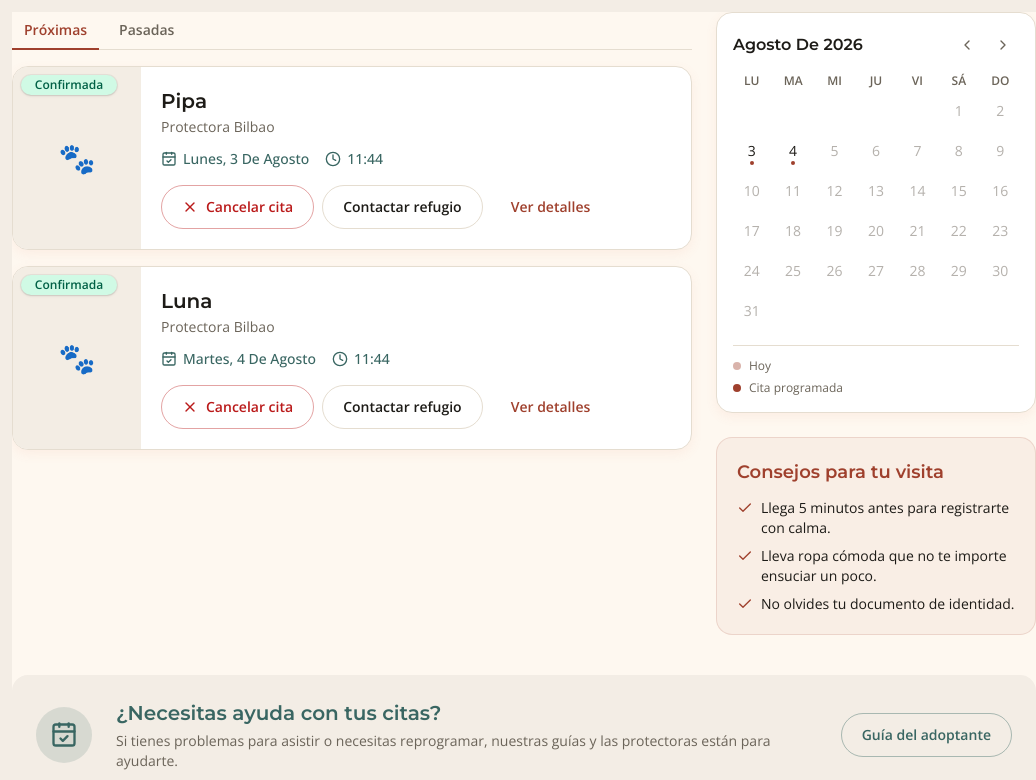
Test case: MisCitasCliente › seleccionar un día del calendario filtra la lista y permite quitar el filtro
The image size is (1036, 780).
expect the link "Pipa" is shown: met, box [161,89,207,113]
expect the link "Luna" is shown: met, box [161,289,212,313]
Click the button "3": (752, 151) [734,133,770,169]
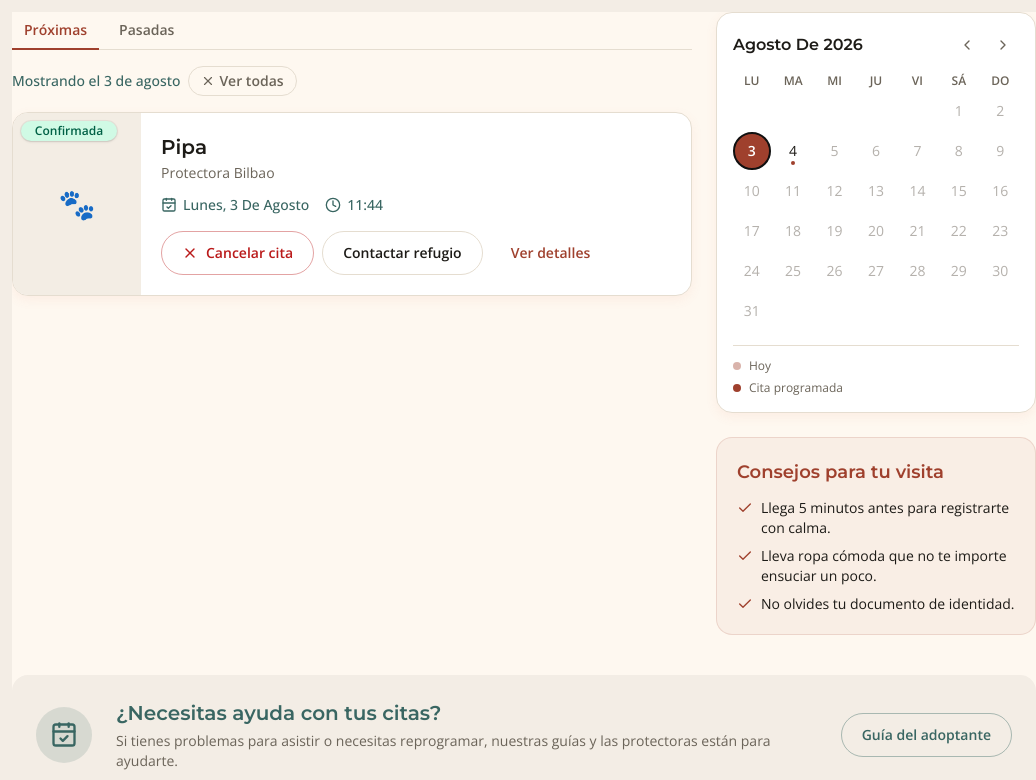
expect the link "Pipa" is shown: met, box [161,135,207,159]
expect the link "Luna" is gone: met
expect the button "Ver todas" is shown: met
Click the button "Ver todas": (242, 81) [188,66,297,96]
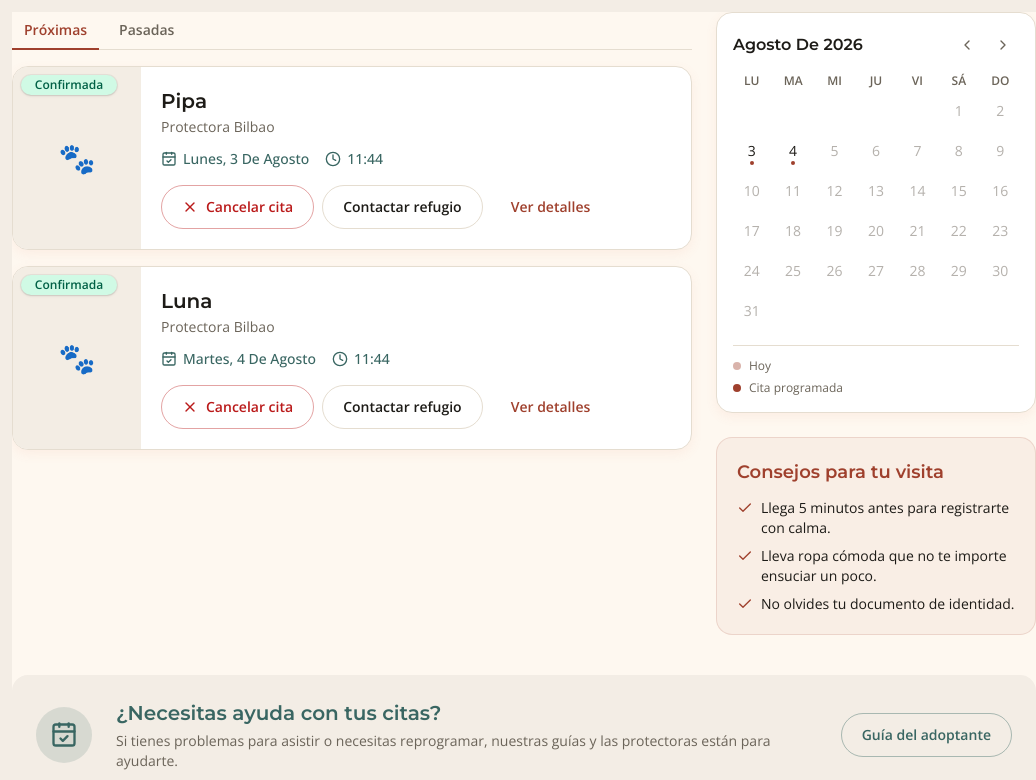
expect the link "Luna" is shown: met, box [161,289,212,313]
